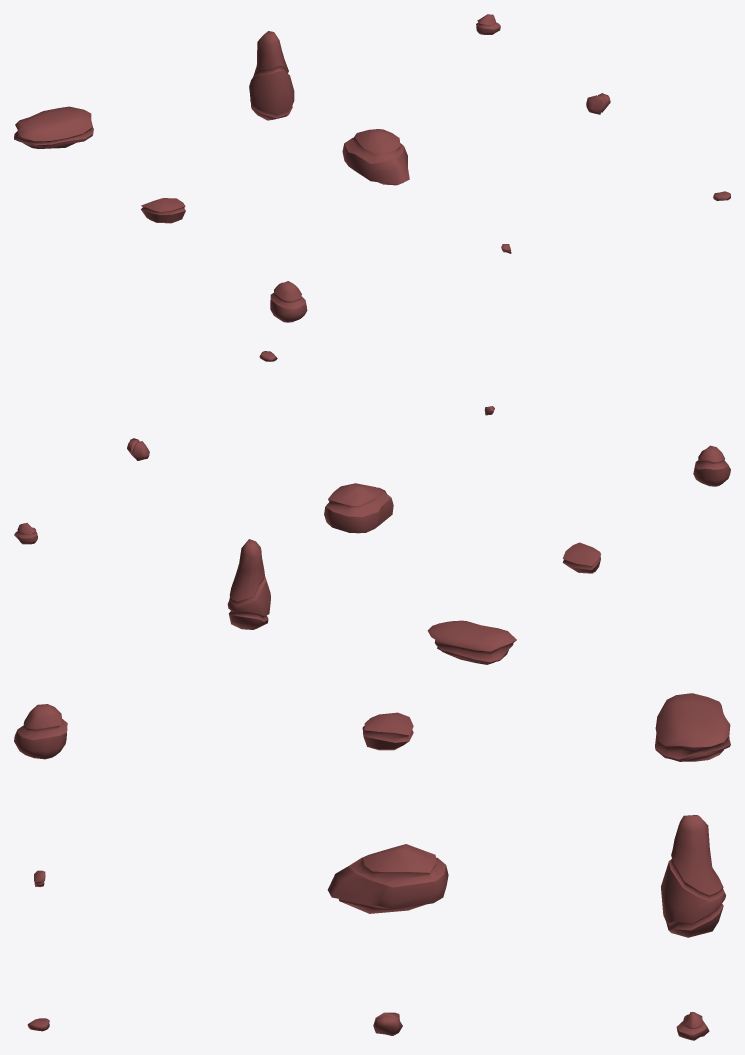
File: Obsidian.fbx
The picture shows the model from 3 angles, top to bottom: view 1: azimuth 30°, elevation 25°; view 2: azimuth 150°, elevation 25°; view 3: azimuth 270°, elevation 25°; orthographic projection. The views are drawn at different scales.
Visible parts, largest first — view 1: Obsidian_03_Geo, Obsidian_01_Geo, Obsidian_04_Geo, Obsidian_09_Geo, Obsidian_02_Geo; view 2: Obsidian_03_Geo, Obsidian_04_Geo, Obsidian_01_Geo, Obsidian_09_Geo, Obsidian_02_Geo; view 3: Obsidian_01_Geo, Obsidian_03_Geo, Obsidian_04_Geo, Obsidian_09_Geo, Obsidian_02_Geo, Obsidian_07_Geo, Obsidian_06_Geo.
Part boxes in pixels (x1,y1,x2,y2): Obsidian_03_Geo: (249, 31, 294, 120); Obsidian_01_Geo: (342, 129, 409, 185); Obsidian_04_Geo: (14, 106, 93, 148); Obsidian_09_Geo: (270, 281, 307, 322); Obsidian_02_Geo: (141, 198, 185, 223); Obsidian_03_Geo: (227, 539, 270, 629); Obsidian_04_Geo: (427, 620, 516, 664); Obsidian_01_Geo: (324, 483, 393, 533); Obsidian_09_Geo: (693, 445, 730, 486); Obsidian_02_Geo: (562, 542, 601, 573); Obsidian_01_Geo: (327, 844, 448, 913); Obsidian_03_Geo: (661, 815, 725, 937); Obsidian_04_Geo: (655, 693, 730, 761); Obsidian_09_Geo: (14, 704, 67, 759); Obsidian_02_Geo: (362, 712, 413, 750); Obsidian_07_Geo: (676, 1012, 709, 1040); Obsidian_06_Geo: (373, 1012, 402, 1035).
Size of the model in its own units: 17.81 by 3.05 by 16.46.
